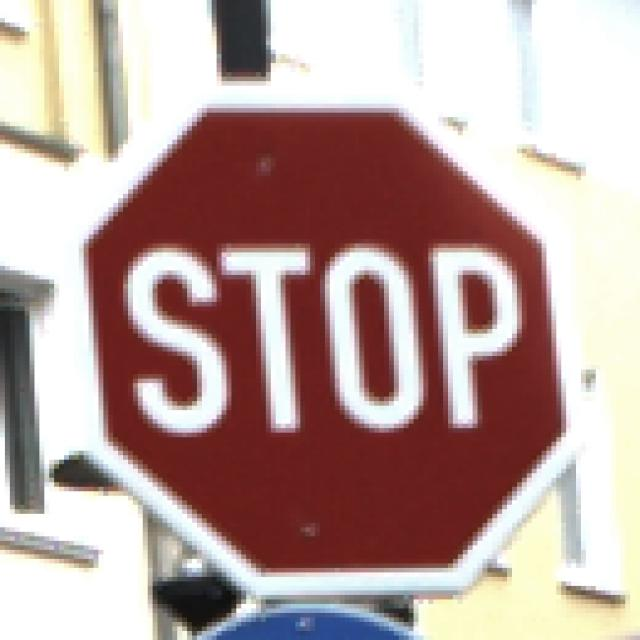STOP: (55, 60, 582, 587)
